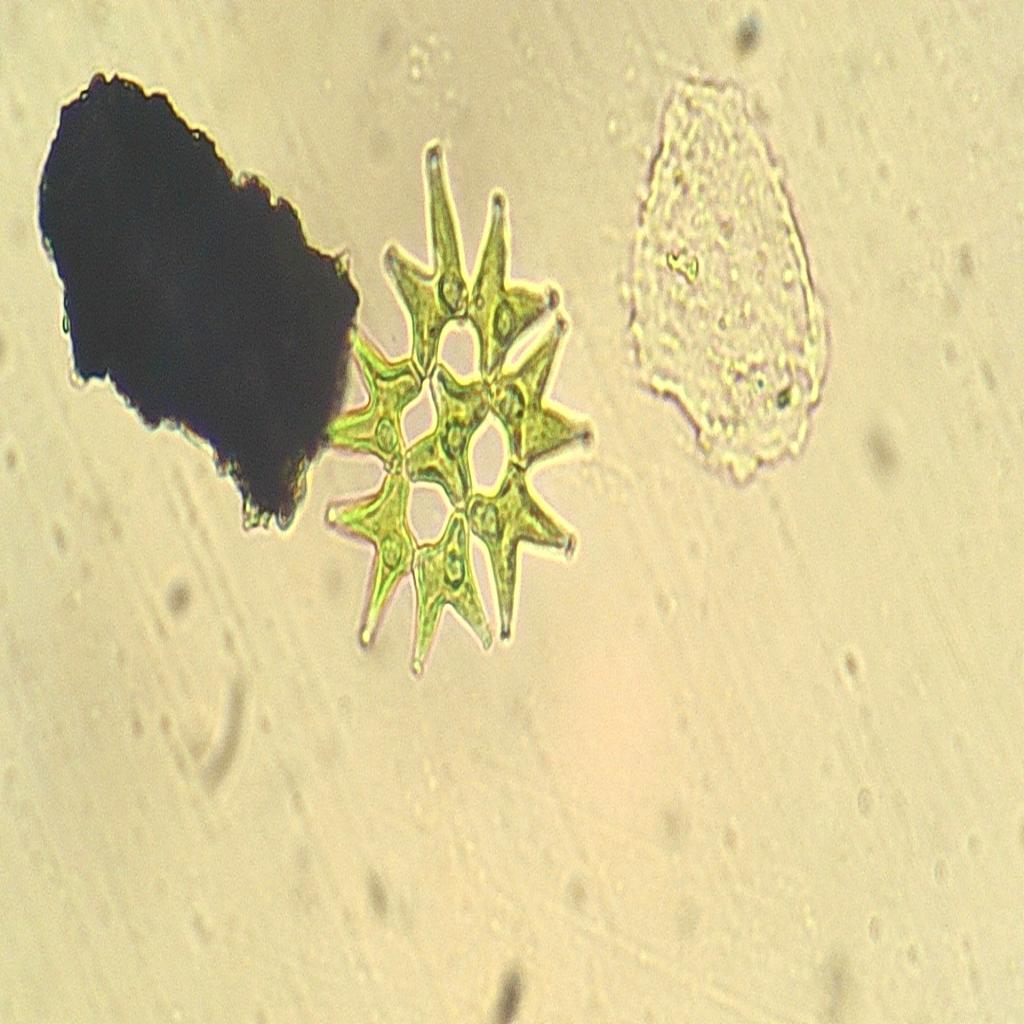Pediastrum_75T: (299, 121, 604, 682)
